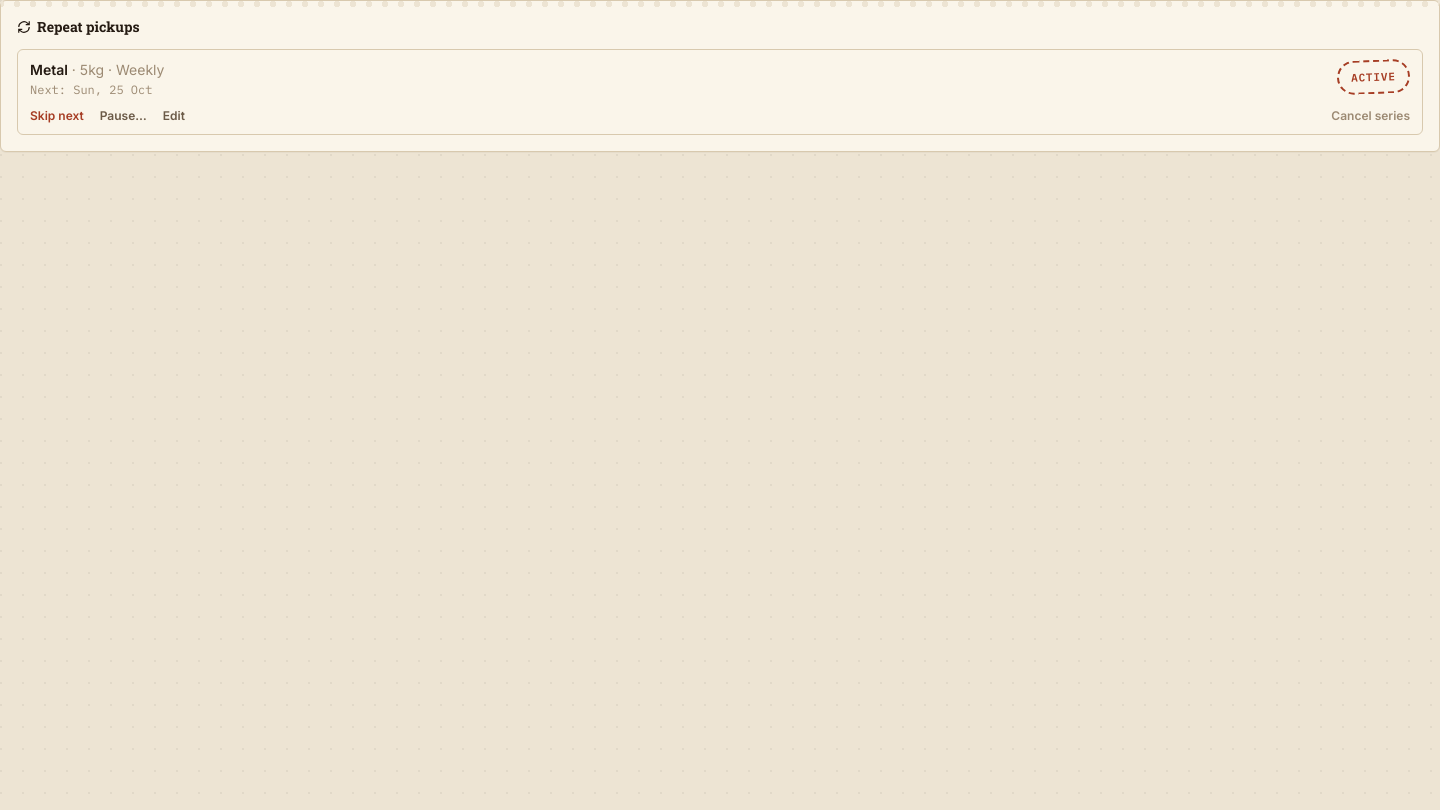
Test: RecurringPickupsPanel › a failed pause keeps the pause menu open so the user can retry
Click the button "Pause…".
click(123, 116)  # box [100, 108, 147, 124]
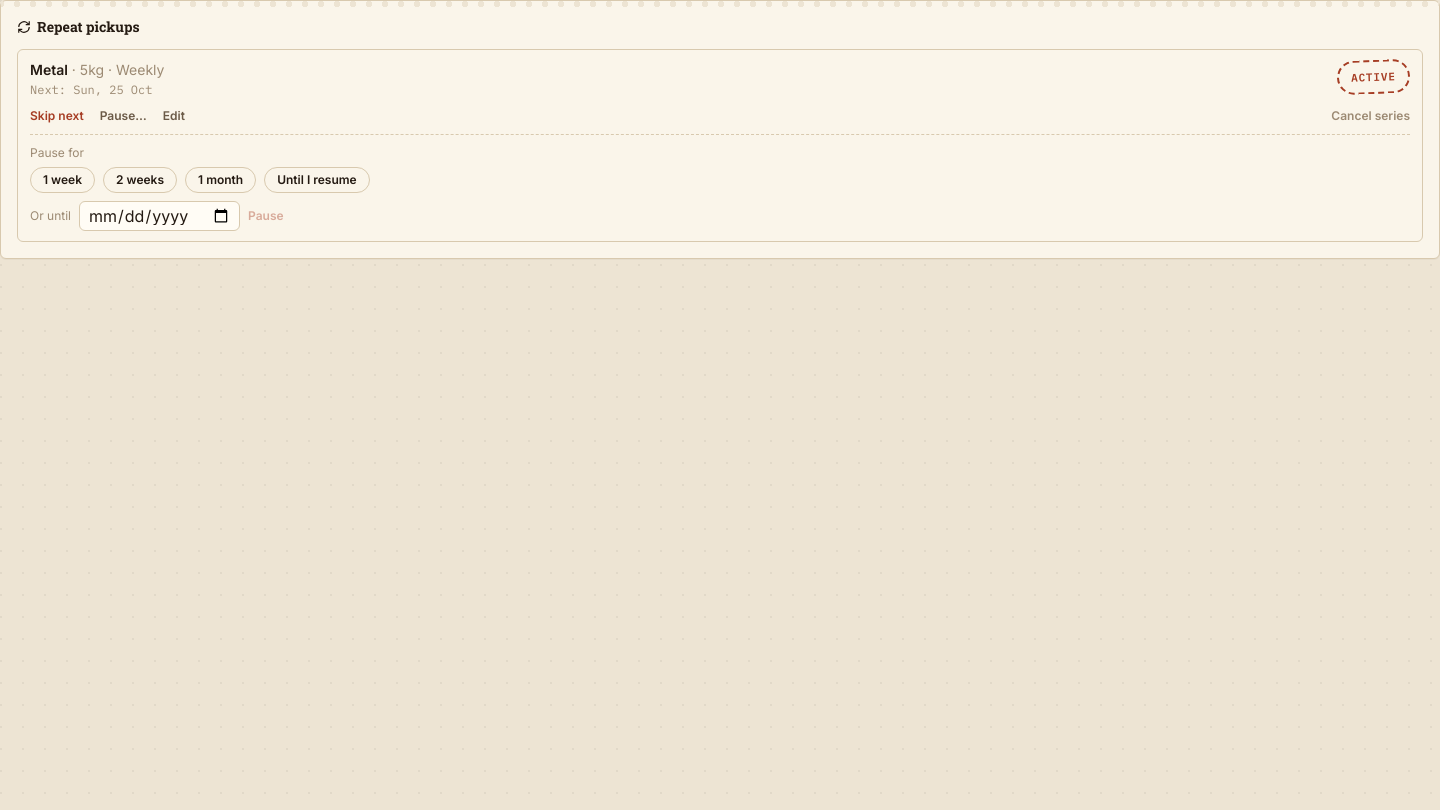
Click the button "1 week".
click(62, 180)  # box [30, 167, 95, 193]
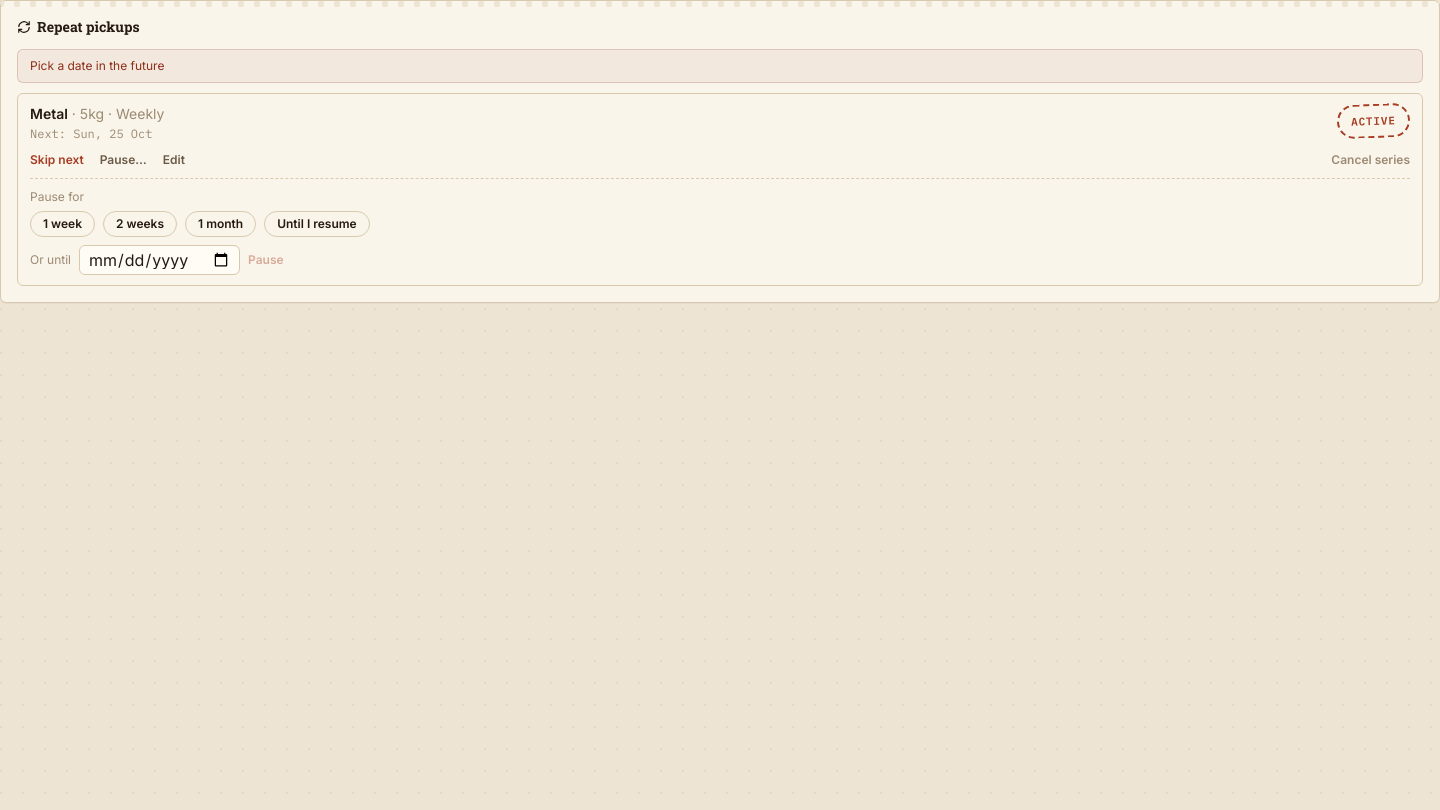
Expected: the button "1 month" is shown, [185, 211, 256, 237]
Expected: the text "Pick a date in the future" is shown, [17, 49, 1423, 83]
